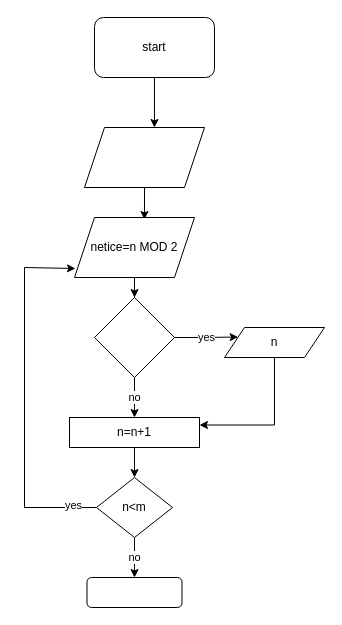
Some shapes in this 342 by 625 pixel diagram are drawn without their labels. Each missing label, with the centre of its shape:
ededler=n,m: point (144, 157)
netice=1: point (134, 337)
son: point (134, 592)
